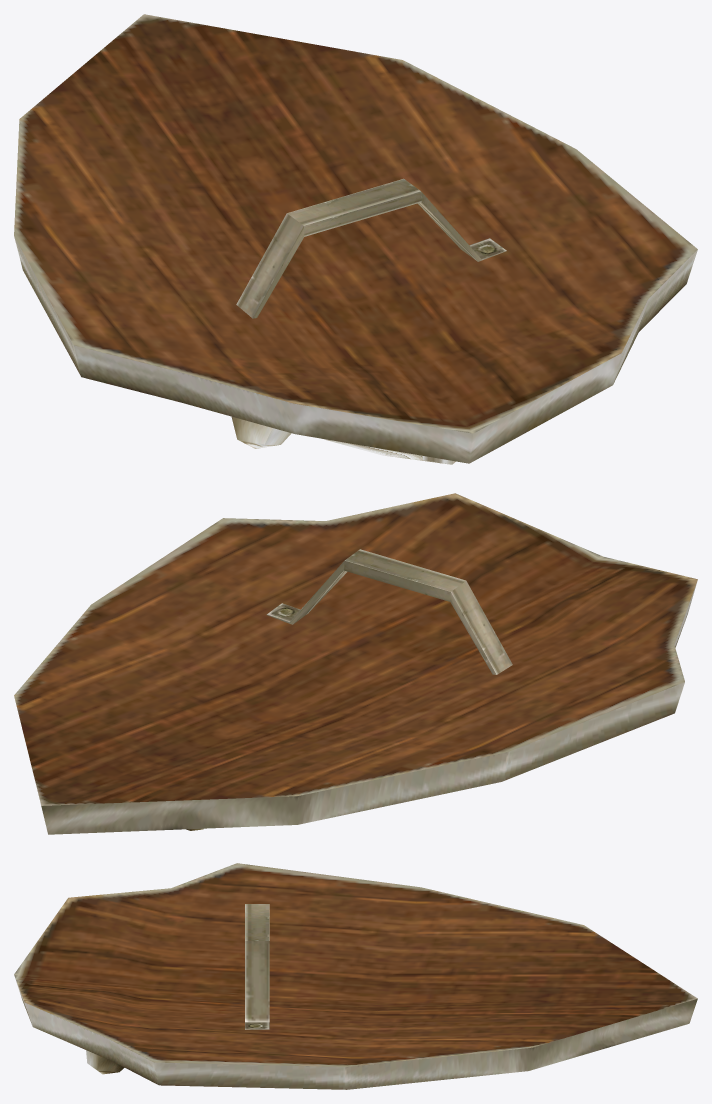
3 renders of one model, top to bottom at view 1: azimuth 30°, elevation 25°; view 2: azimuth 150°, elevation 25°; view 3: azimuth 270°, elevation 25°, orthographic. The views are drawn at different scales.
Parts seen in each view (by area): view 1: i100000-; view 2: i100000-; view 3: i100000-.
Boxes of the visible parts, bbox=[...] form: i100000-: bbox=[14, 14, 697, 464]; i100000-: bbox=[14, 493, 697, 834]; i100000-: bbox=[14, 863, 697, 1089].
Bounding box in the file's own units: 34.24 × 12.81 × 48.62.
Materials: 1 (1 with a texture image).
